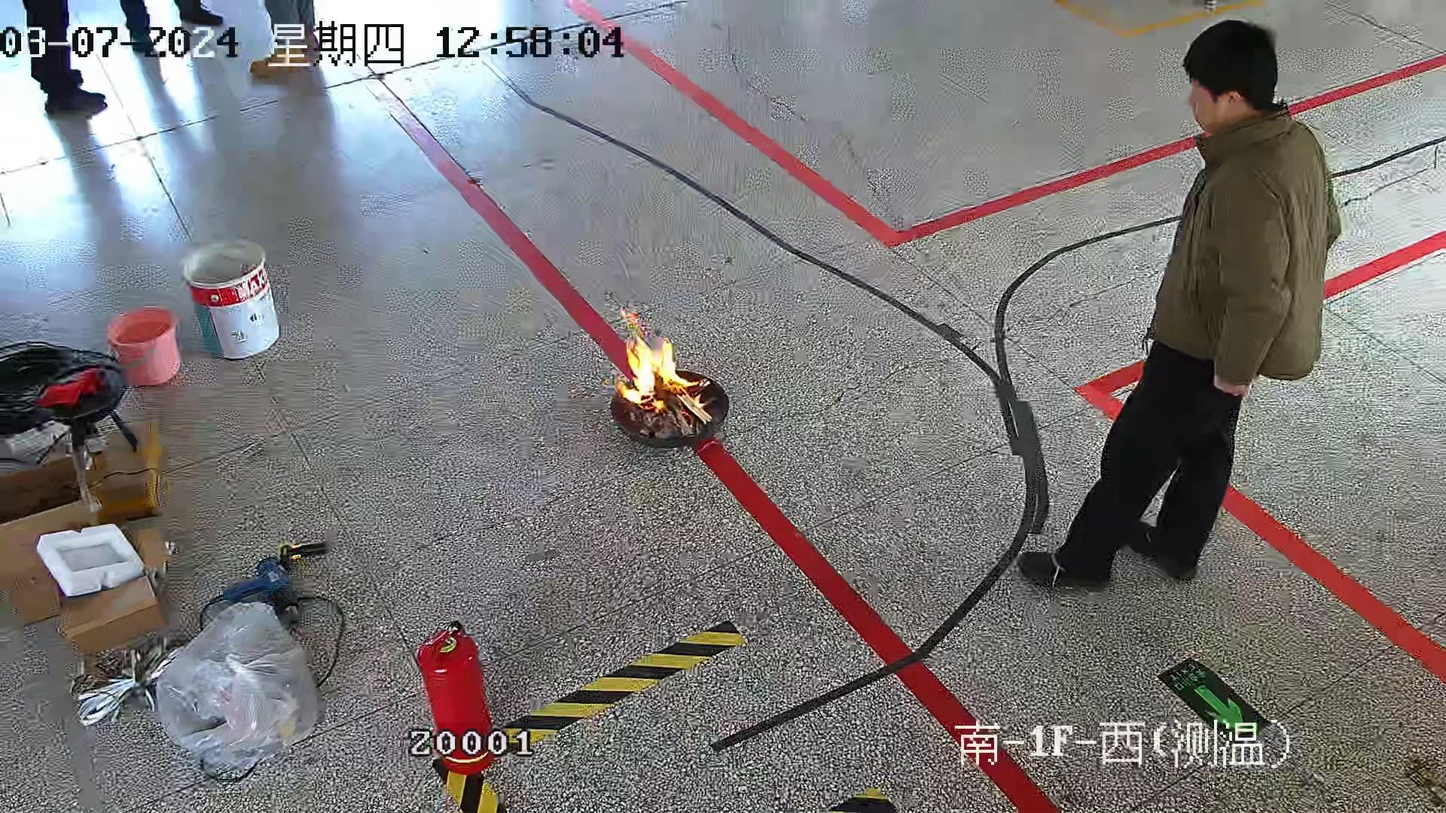fire: (616, 309, 692, 413)
